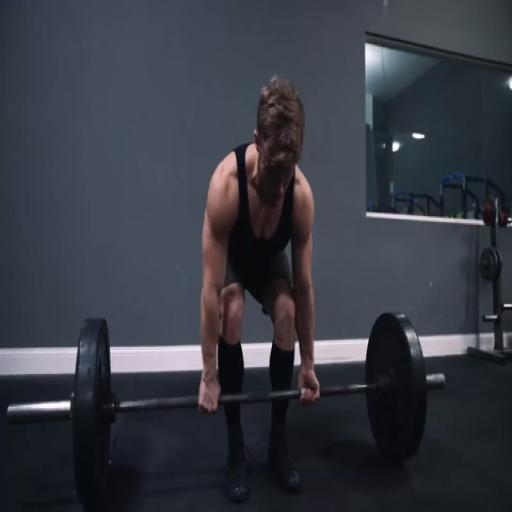exercise: (195, 74, 323, 505)
